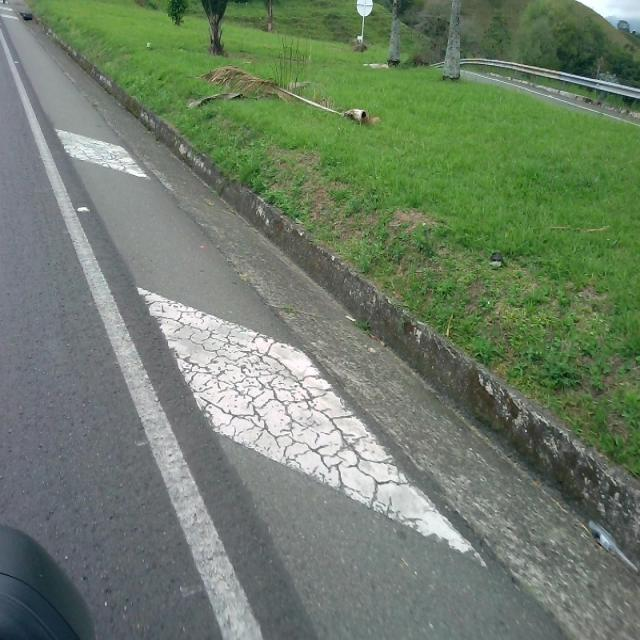DITCH: (3, 3, 638, 638), (1, 46, 638, 639)
